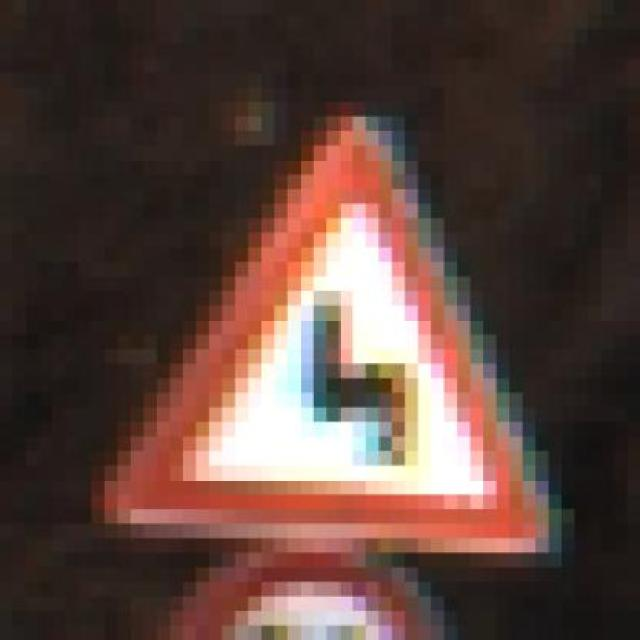Left Zig Zag Traffic: (90, 87, 588, 567)
